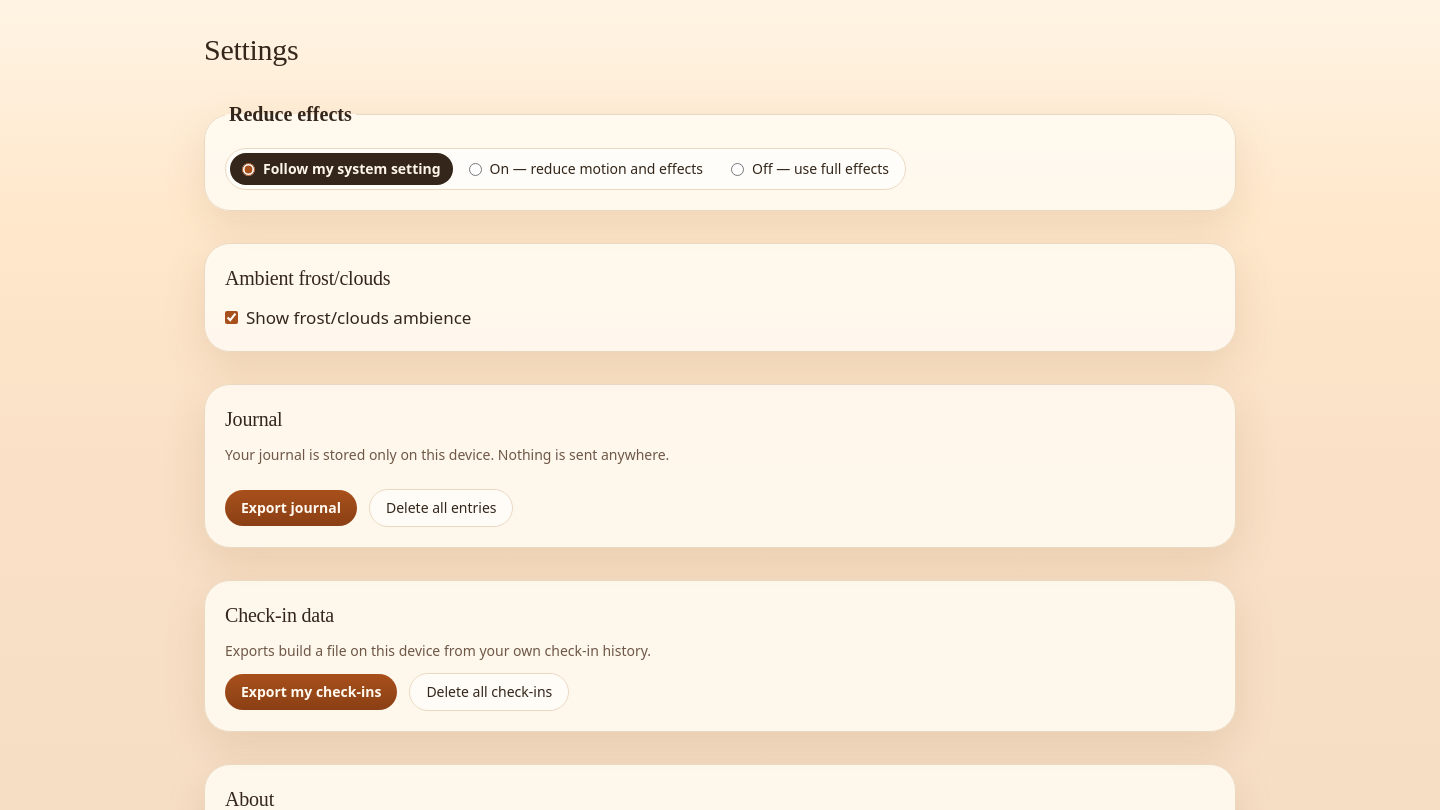
Test case: SettingsPage — ambient frost/clouds toggle › disables and explains the toggle when reduce-effects is ON, forcing it OFF
Expected: the checkbox labelled "Show frost/clouds ambience" is shown, [225,311,238,324]
Click the radio button labelled "On — reduce motion and effects" at (475, 169), box [469,162,482,176]
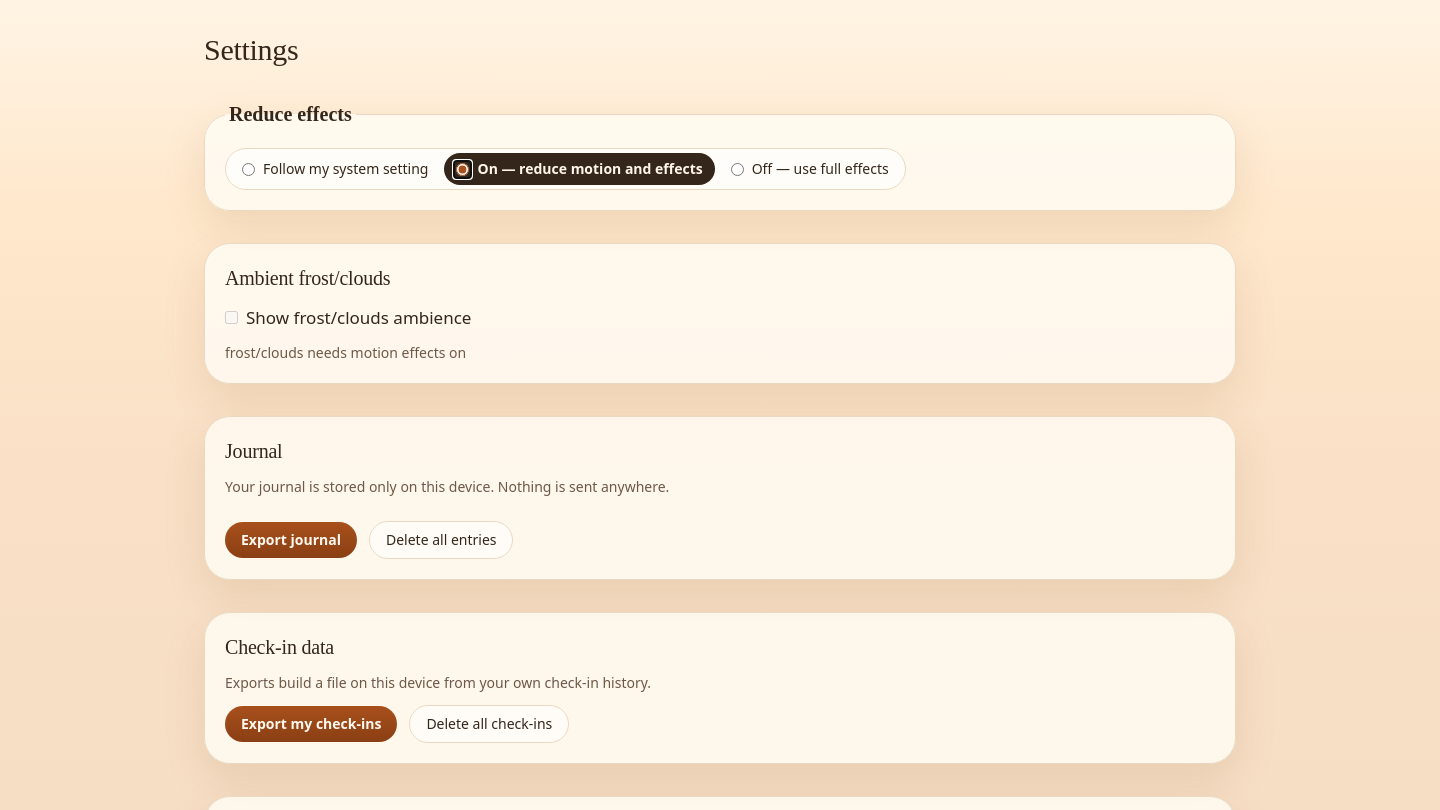
Result: the checkbox labelled "Show frost/clouds ambience" is disabled at [225,311,238,324]
Result: the checkbox labelled "Show frost/clouds ambience" is not checked at [225,311,238,324]
Result: the text "frost/clouds needs motion effects on" is shown at [225,343,466,362]
